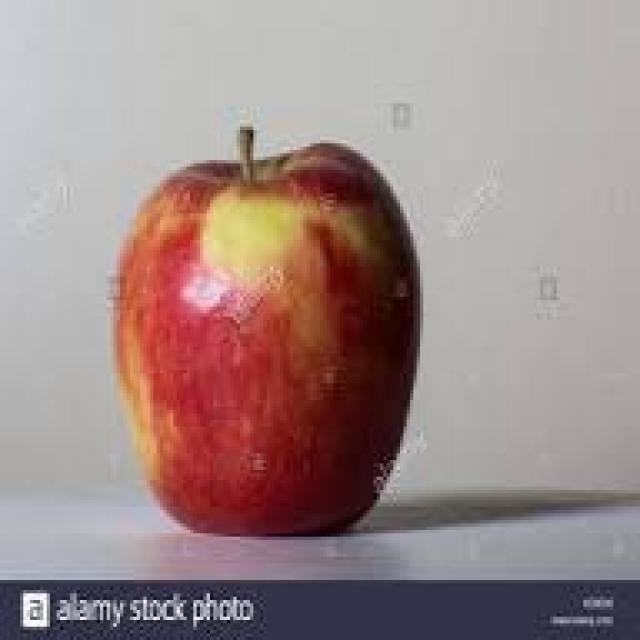apple: (116, 154, 416, 534)
